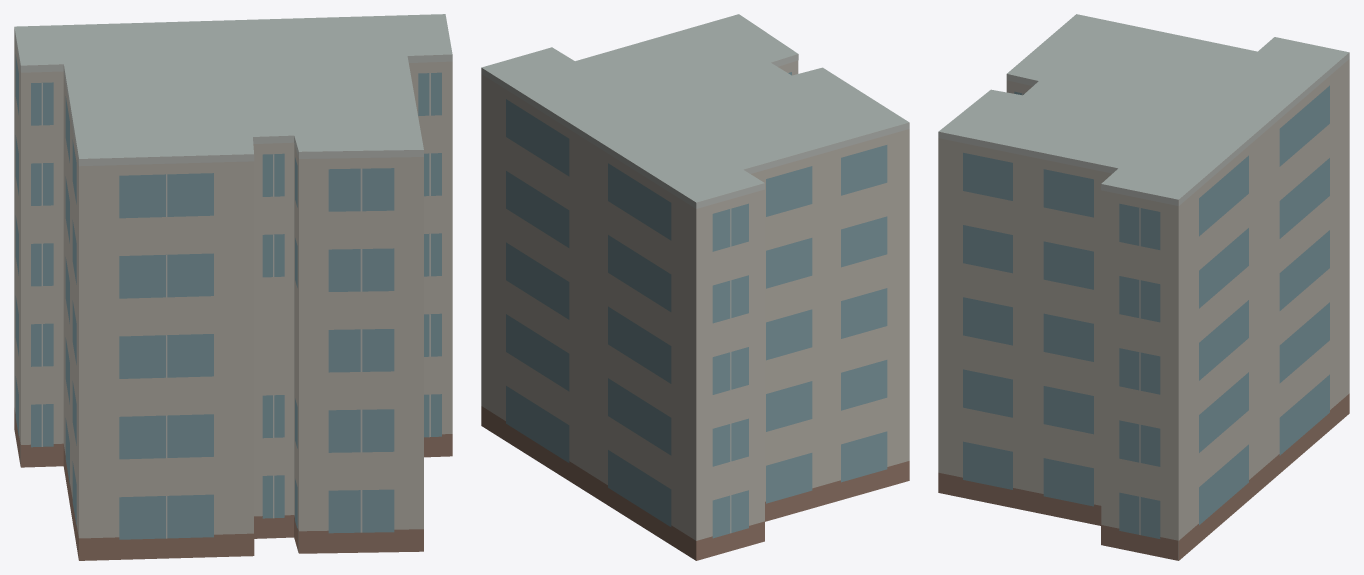
The model's file is survey-upis-32951774.glb.
3 views of the same model, side by side, from view 1: azimuth 30°, elevation 25°; view 2: azimuth 150°, elevation 25°; view 3: azimuth 270°, elevation 25° (orthographic). The views are drawn at different scales.
Visible parts, largest first — view 1: survey-upis-32951774.tmp; view 2: survey-upis-32951774.tmp; view 3: survey-upis-32951774.tmp.
Boxes of the visible parts, <box> form: survey-upis-32951774.tmp: <box>14,14,452,560</box>; survey-upis-32951774.tmp: <box>481,14,909,560</box>; survey-upis-32951774.tmp: <box>938,14,1349,560</box>.
Size of the model in its own units: 15.12 by 13.7 by 14.14.
